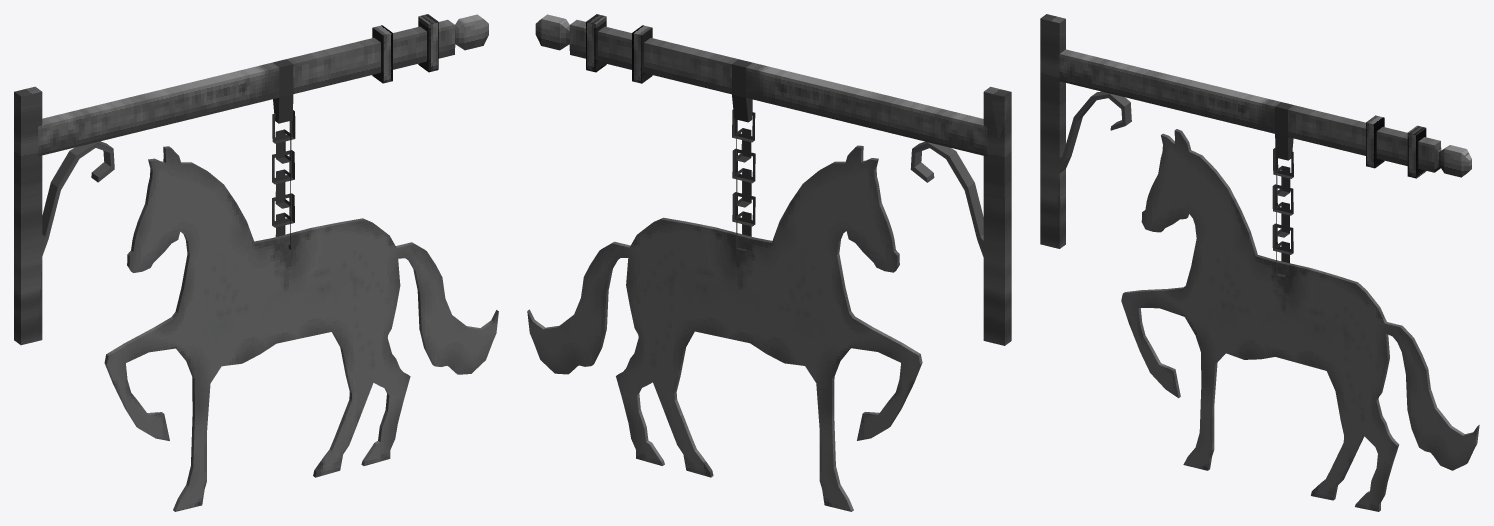
The model's file is sign_360x07.gltf.
The picture shows the model from 3 angles, left to right: view 1: azimuth 30°, elevation 25°; view 2: azimuth 150°, elevation 25°; view 3: azimuth 330°, elevation 25°; orthographic projection. The views are drawn at different scales.
Parts seen in each view (by area): view 1: sign_360x07; view 2: sign_360x07; view 3: sign_360x07.
Part boxes in pixels (x1,y1,x2,y2): sign_360x07: [14, 14, 498, 511]; sign_360x07: [527, 14, 1011, 511]; sign_360x07: [1040, 14, 1479, 511].
Size of the model in its own units: 2.97 by 2.7 by 0.1135.
Materials: 1 (1 with a texture image).
